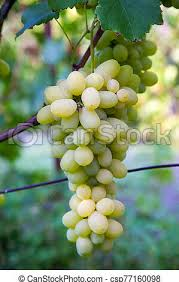grapes: (39, 57, 133, 258)
